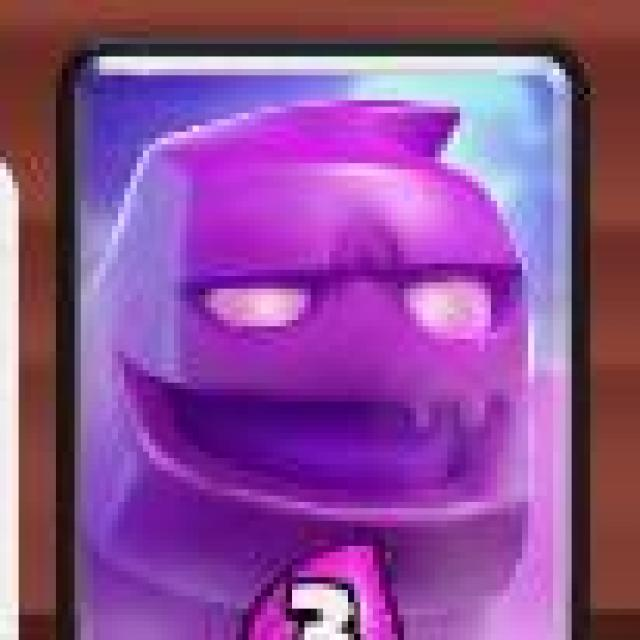Elixir_Golem: (50, 38, 588, 640)
